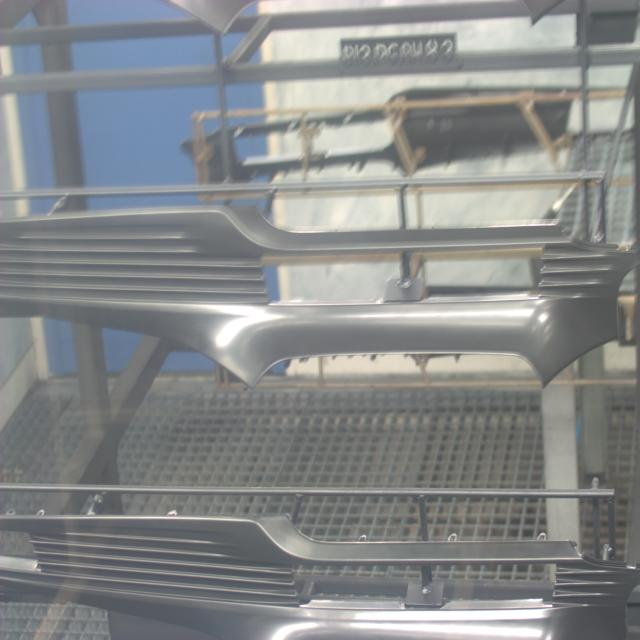Non_primered: (7, 207, 640, 380)
